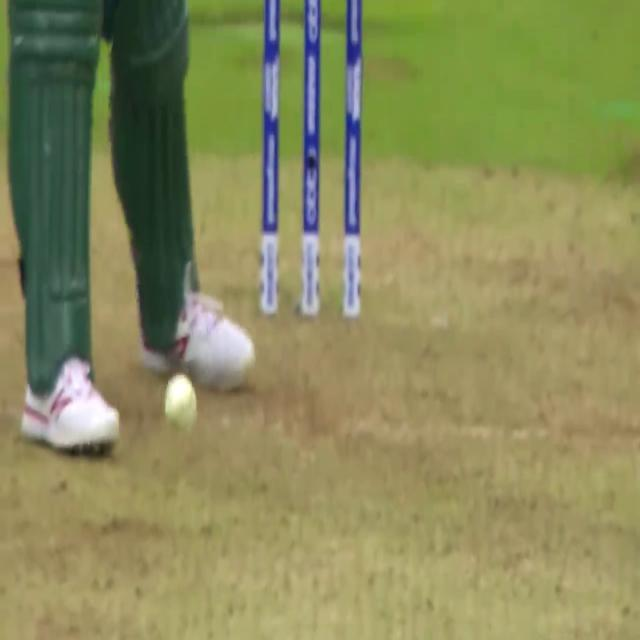ball: (162, 371, 200, 444)
